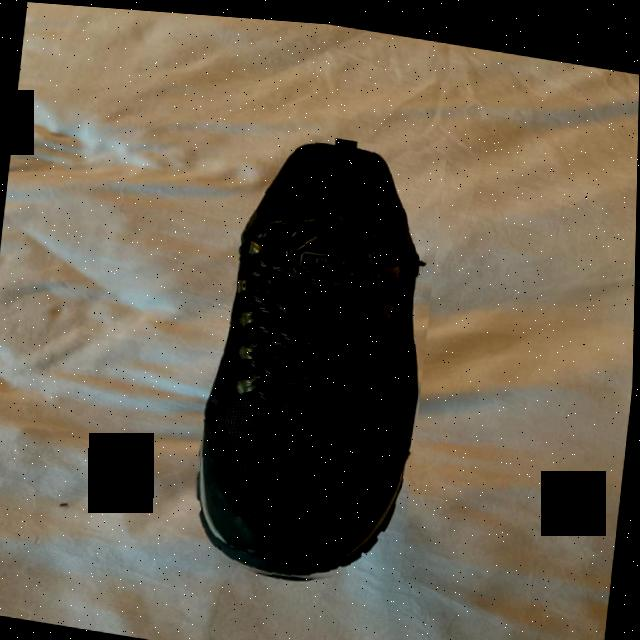shoe: (183, 114, 447, 595)
